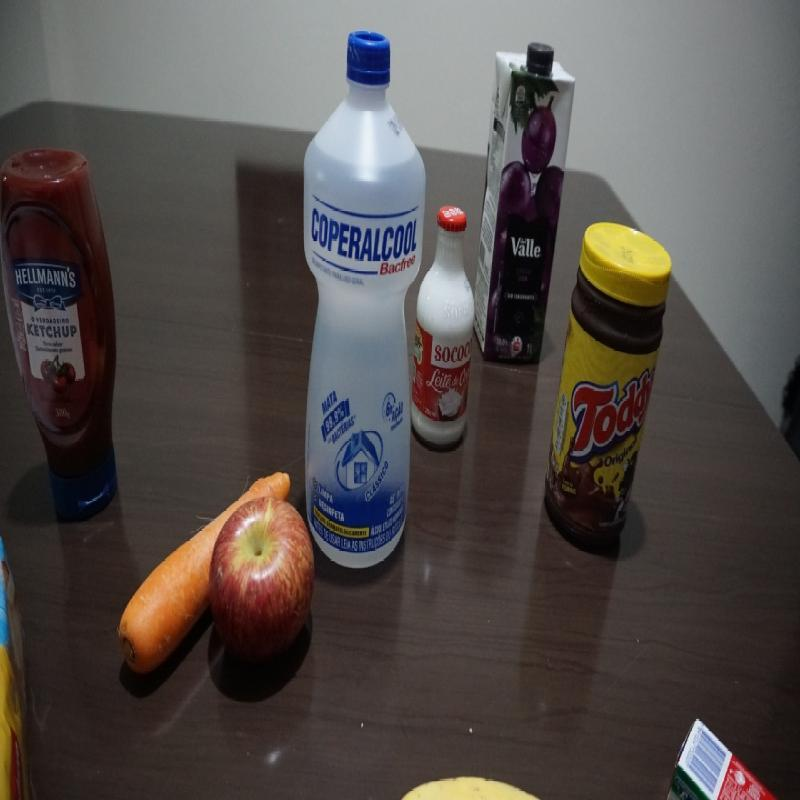Alcohol Bottle: (299, 25, 428, 583)
Apple: (208, 496, 318, 668)
Banana: (397, 768, 550, 800)
Carrot: (116, 527, 210, 692)
Chocolate Powder: (543, 221, 673, 548)
Coconut Milk: (408, 203, 475, 451)
Cracker: (1, 534, 30, 800)
Ketchup: (0, 141, 125, 526)
Toothpaste: (658, 717, 777, 798)
